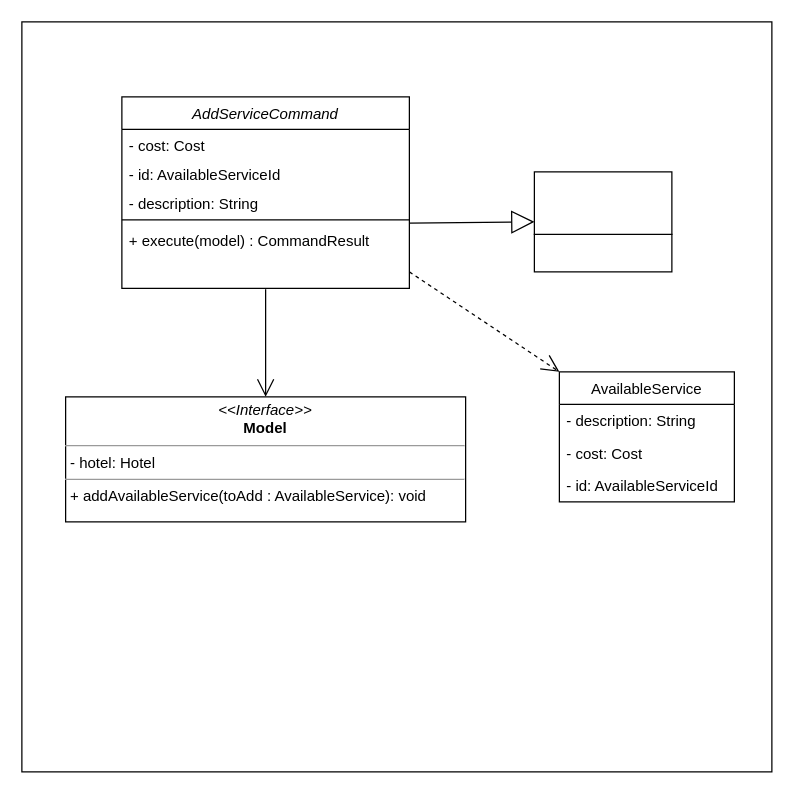
Some shapes in this 794 by 794 pixel diagram are drawn without their labels. The centre of each missing label's shape, as x and y in pixels:
"+ execute(model)" belongs at point (602, 252).
"{abstract} Command" belongs at point (602, 202).
